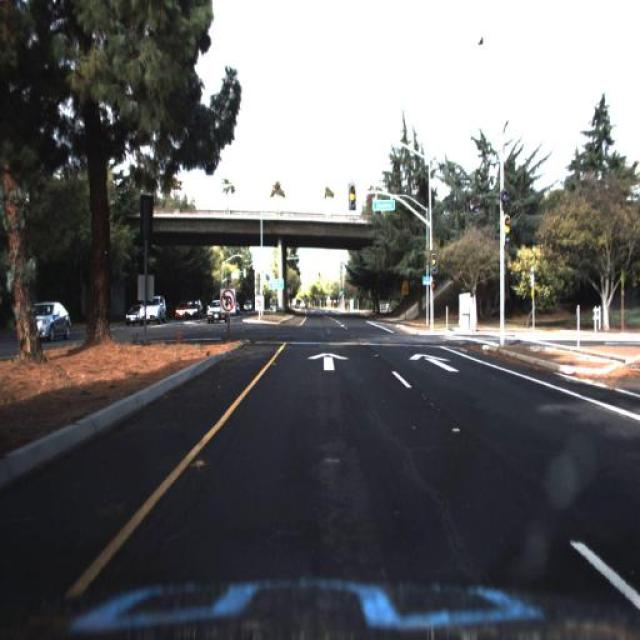car: (26, 300, 73, 345), (135, 292, 171, 323), (142, 295, 166, 330), (122, 298, 144, 323), (182, 298, 198, 328), (208, 298, 228, 318), (185, 298, 204, 318), (122, 304, 138, 324), (239, 297, 253, 317)
trafficLight-YellowLeft: (500, 213, 514, 241), (348, 182, 357, 214), (429, 246, 438, 272), (502, 216, 509, 242)
